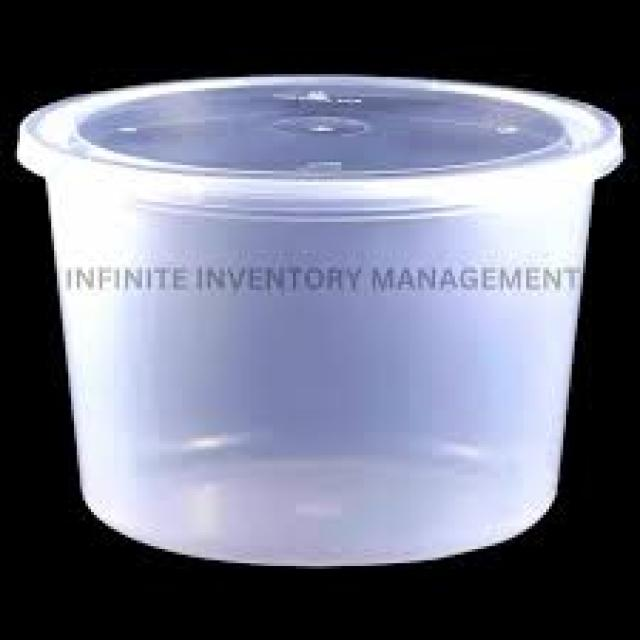disposable: (8, 57, 634, 592)
